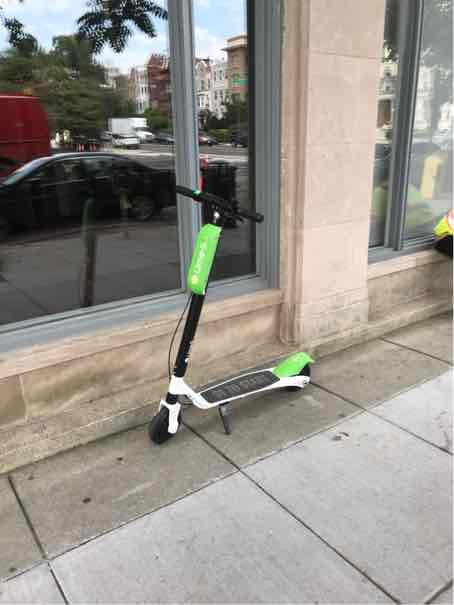scooter: (139, 192, 325, 454)
